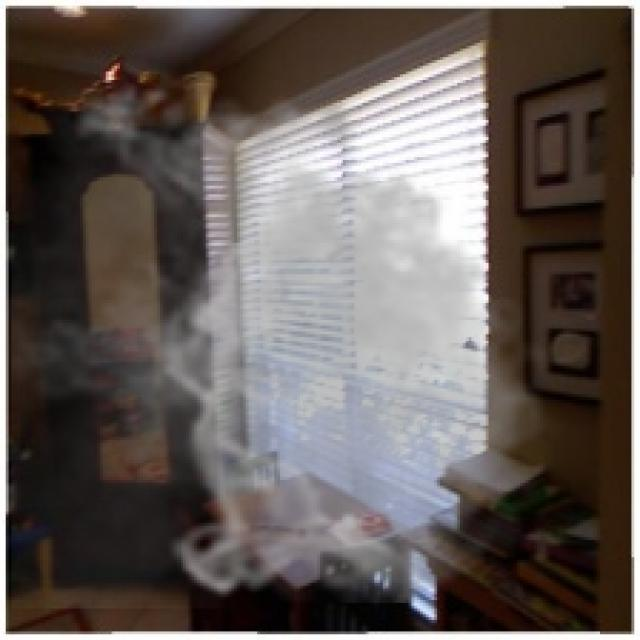smoke: (11, 66, 566, 608)
